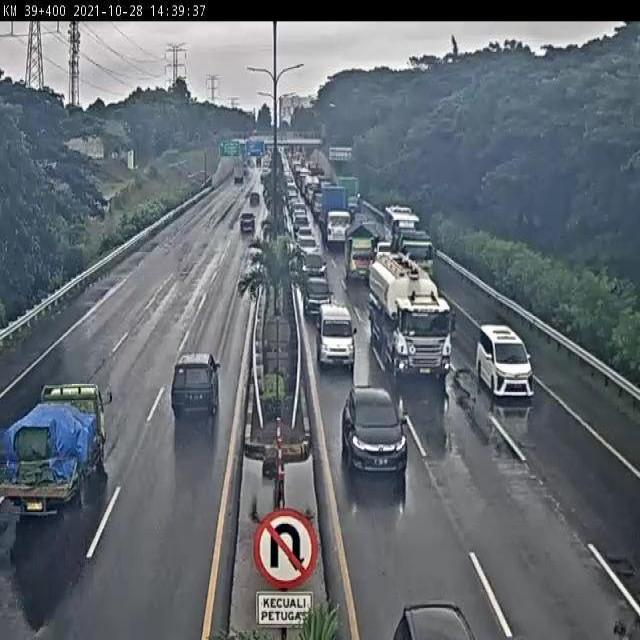car: (372, 544, 480, 640), (337, 376, 399, 472), (164, 356, 233, 424), (482, 316, 534, 391), (318, 298, 352, 354), (304, 274, 330, 310), (301, 247, 325, 271), (235, 219, 254, 248), (245, 191, 265, 217)
truck: (0, 356, 115, 536), (360, 248, 443, 363), (343, 223, 371, 272)
